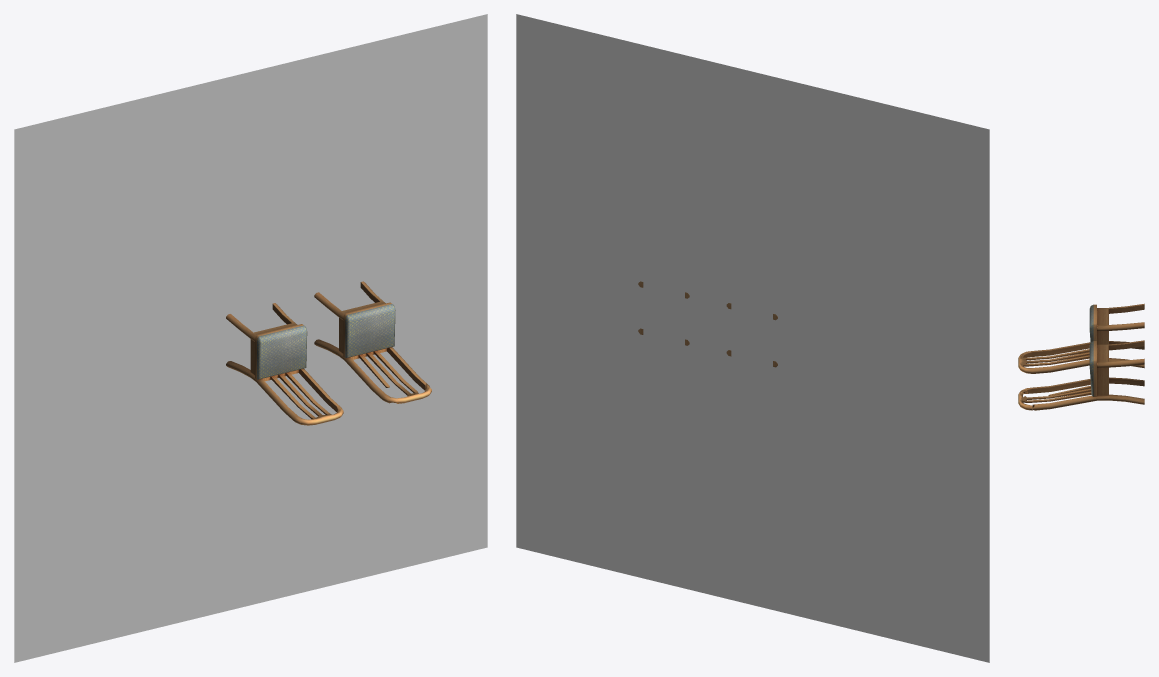
Rendered from chair.obj.
3 renders of one model, left to right at view 1: azimuth 30°, elevation 25°; view 2: azimuth 150°, elevation 25°; view 3: azimuth 270°, elevation 25°, orthographic. The views are drawn at different scales.
Visible parts, largest first — view 1: Plane01, chair, ch_gibs00, ch_gibs02, ch_gibs06; view 2: Plane01; view 3: chair, ch_gibs05, ch_gibs04, ch_gibs06, ch_gibs02, ch_gibs00, ch_gibs01.
Boxes of the visible parts, x1=… form: Plane01: x1=14, y1=14, x2=487, y2=662; chair: x1=226, y1=303, x2=343, y2=425; ch_gibs00: x1=343, y1=302, x2=395, y2=357; ch_gibs02: x1=350, y1=350, x2=418, y2=396; ch_gibs06: x1=314, y1=339, x2=396, y2=403; Plane01: x1=516, y1=14, x2=989, y2=662; chair: x1=1018, y1=303, x2=1144, y2=373; ch_gibs05: x1=1032, y1=394, x2=1144, y2=410; ch_gibs04: x1=1097, y1=354, x2=1144, y2=395; ch_gibs06: x1=1022, y1=377, x2=1144, y2=393; ch_gibs02: x1=1021, y1=385, x2=1091, y2=402; ch_gibs00: x1=1089, y1=341, x2=1096, y2=396; ch_gibs01: x1=1097, y1=340, x2=1144, y2=355.
Size of what is drawn, in the model's own units: 167 by 180 by 45.38.
Materials: 2 (1 with a texture image).
